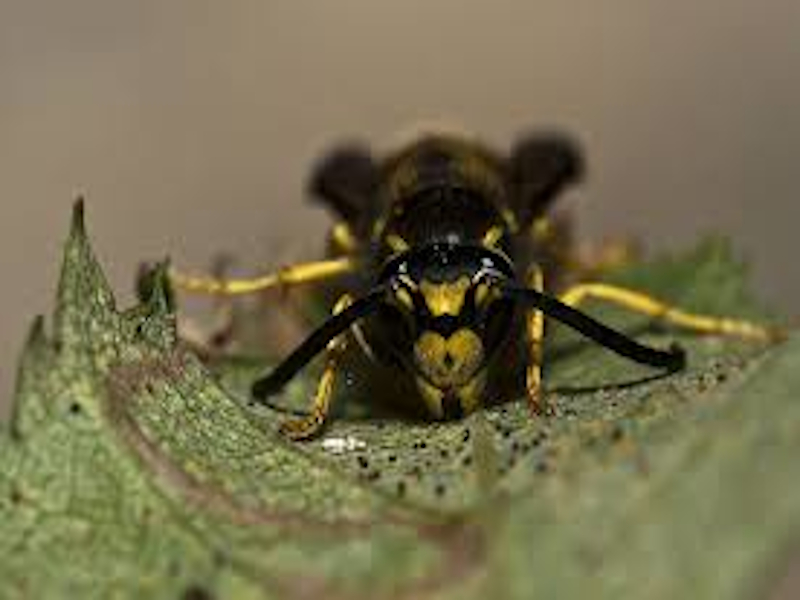chax: (160, 114, 780, 417)
